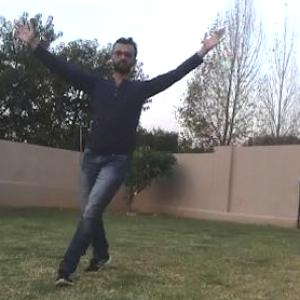takeoff: (13, 24, 227, 280)
